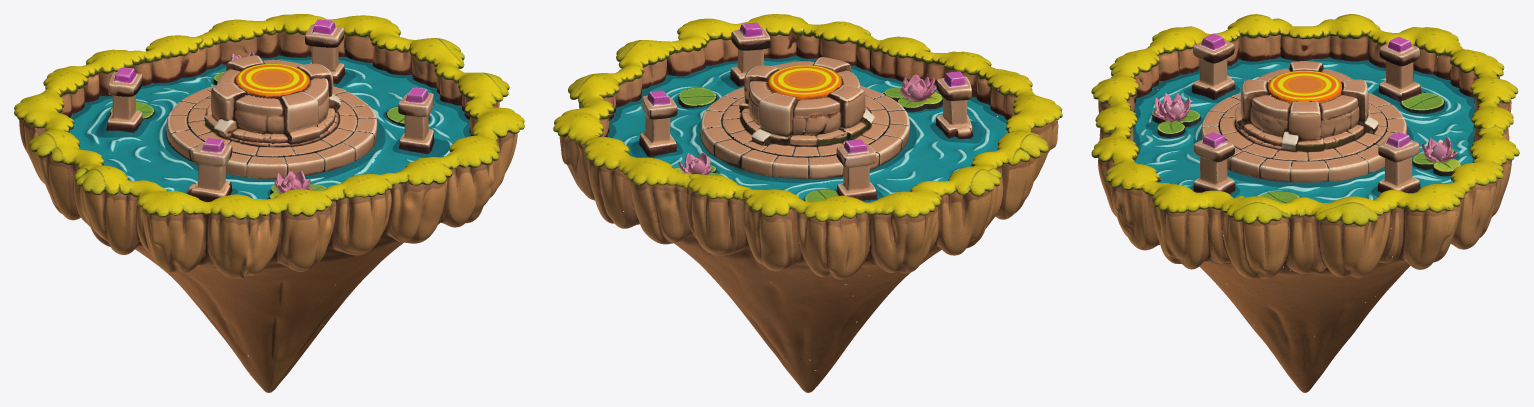
The model's file is island3.glb.
The picture shows the model from 3 angles, left to right: view 1: azimuth 30°, elevation 25°; view 2: azimuth 150°, elevation 25°; view 3: azimuth 270°, elevation 25°; orthographic projection.
Bounding box in the file's own units: 1.9 × 1.34 × 1.68.
1 material, 1 textured.
